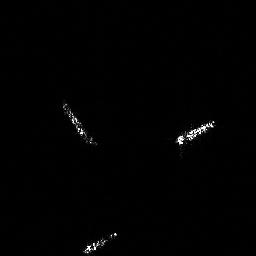ship: (63, 103, 93, 144), (177, 120, 215, 145), (83, 232, 118, 254)
